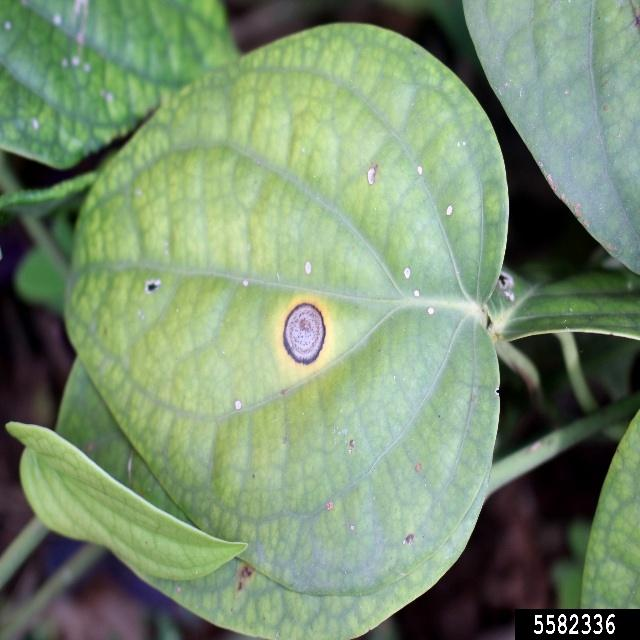leaf_spot: (102, 170, 463, 420)
